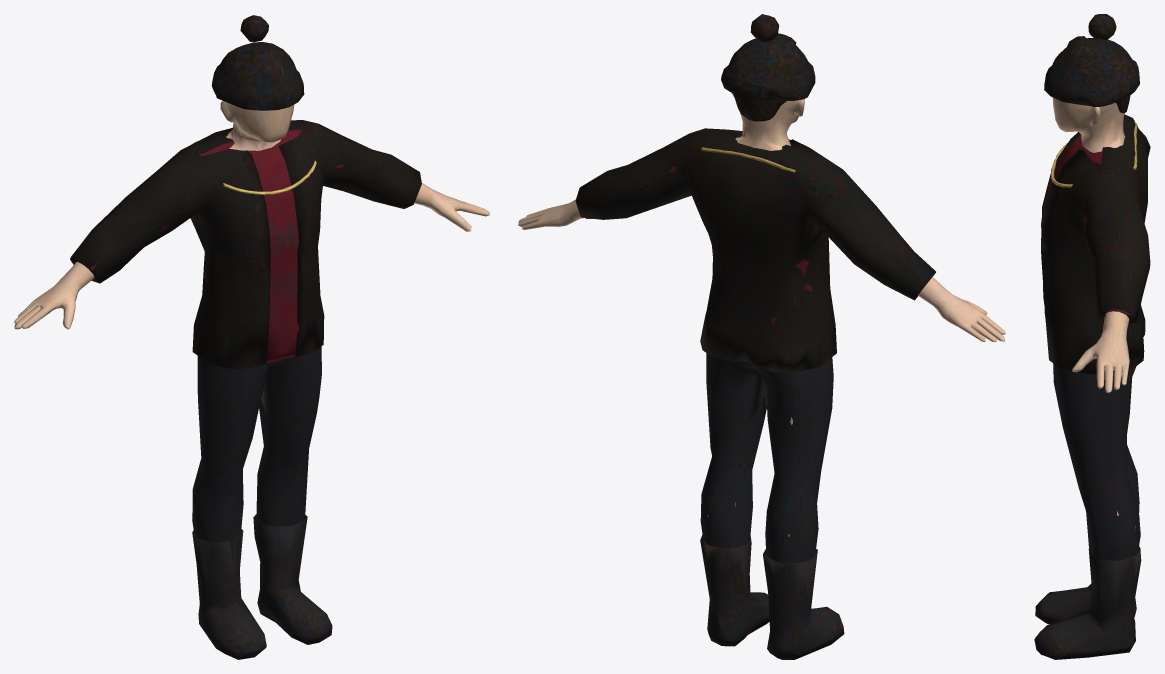
Rendered from npc_x_bandit_w2.glb.
The picture shows the model from 3 angles, left to right: view 1: azimuth 30°, elevation 25°; view 2: azimuth 150°, elevation 25°; view 3: azimuth 270°, elevation 25°; orthographic projection. The views are drawn at different scales.
Visible parts, largest first — view 1: Human; view 2: Human; view 3: Human.
Boxes of the visible parts, left/top/right/bottom form: Human: left=14, top=15, right=489, bottom=659; Human: left=518, top=14, right=1005, bottom=659; Human: left=1034, top=14, right=1150, bottom=659.
Bounding box in the file's own units: 1.58 × 1.96 × 0.3319.
1 material, 1 textured.
